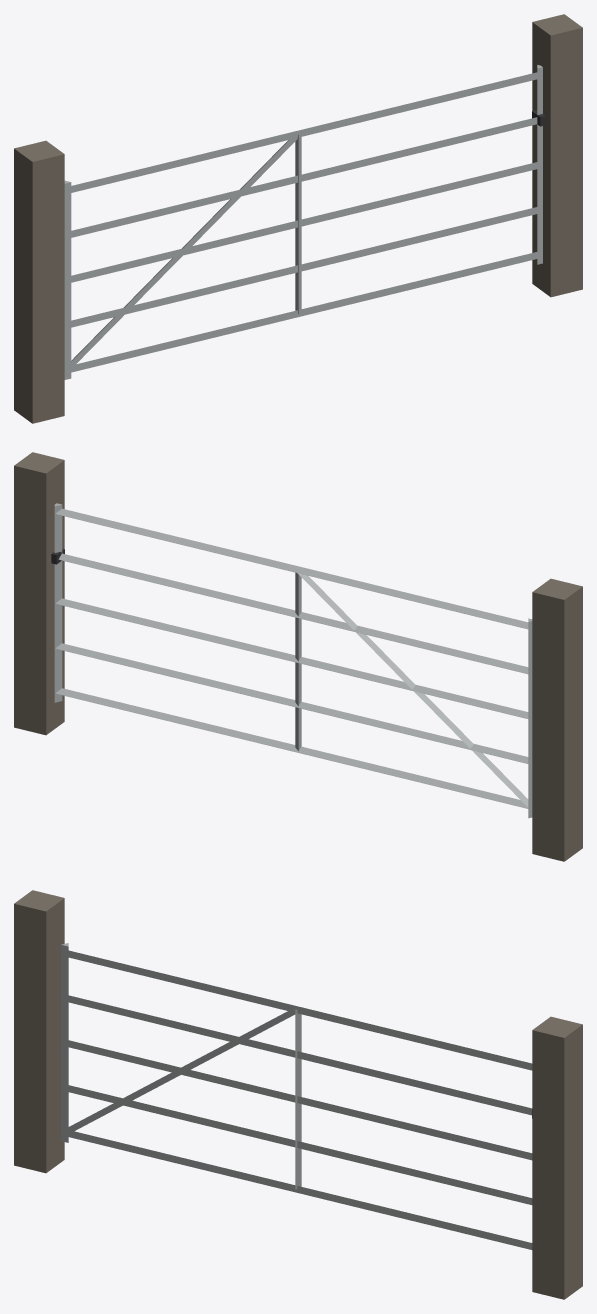
File: farm_gate.glb
3 views of the same model, one above another, from view 1: azimuth 30°, elevation 25°; view 2: azimuth 150°, elevation 25°; view 3: azimuth 330°, elevation 25° (orthographic).
Visible parts, largest first — view 1: farm_gate; view 2: farm_gate; view 3: farm_gate.
Boxes of the visible parts, x1,y1,x2,y2 form: farm_gate: (14, 14, 582, 423); farm_gate: (14, 452, 582, 861); farm_gate: (14, 890, 582, 1299).
Size of the model in its own units: 3.08 by 1.4 by 0.18.
1 material, 1 textured.
